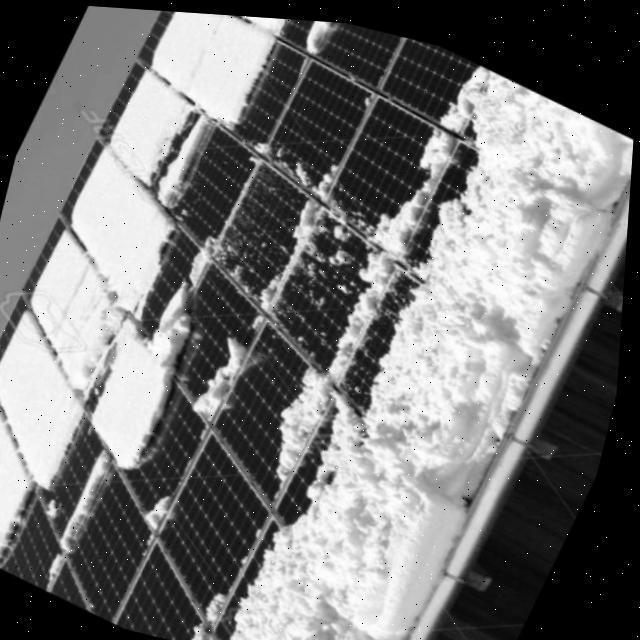Anomaly Solar Panel: (0, 8, 635, 640)
Snow: (222, 56, 635, 640), (0, 9, 287, 568), (279, 66, 474, 485), (85, 266, 216, 478), (242, 158, 372, 330), (187, 318, 270, 429), (55, 436, 120, 564), (130, 479, 194, 551), (176, 219, 237, 294), (186, 571, 247, 640), (38, 536, 84, 595), (291, 15, 344, 58)
